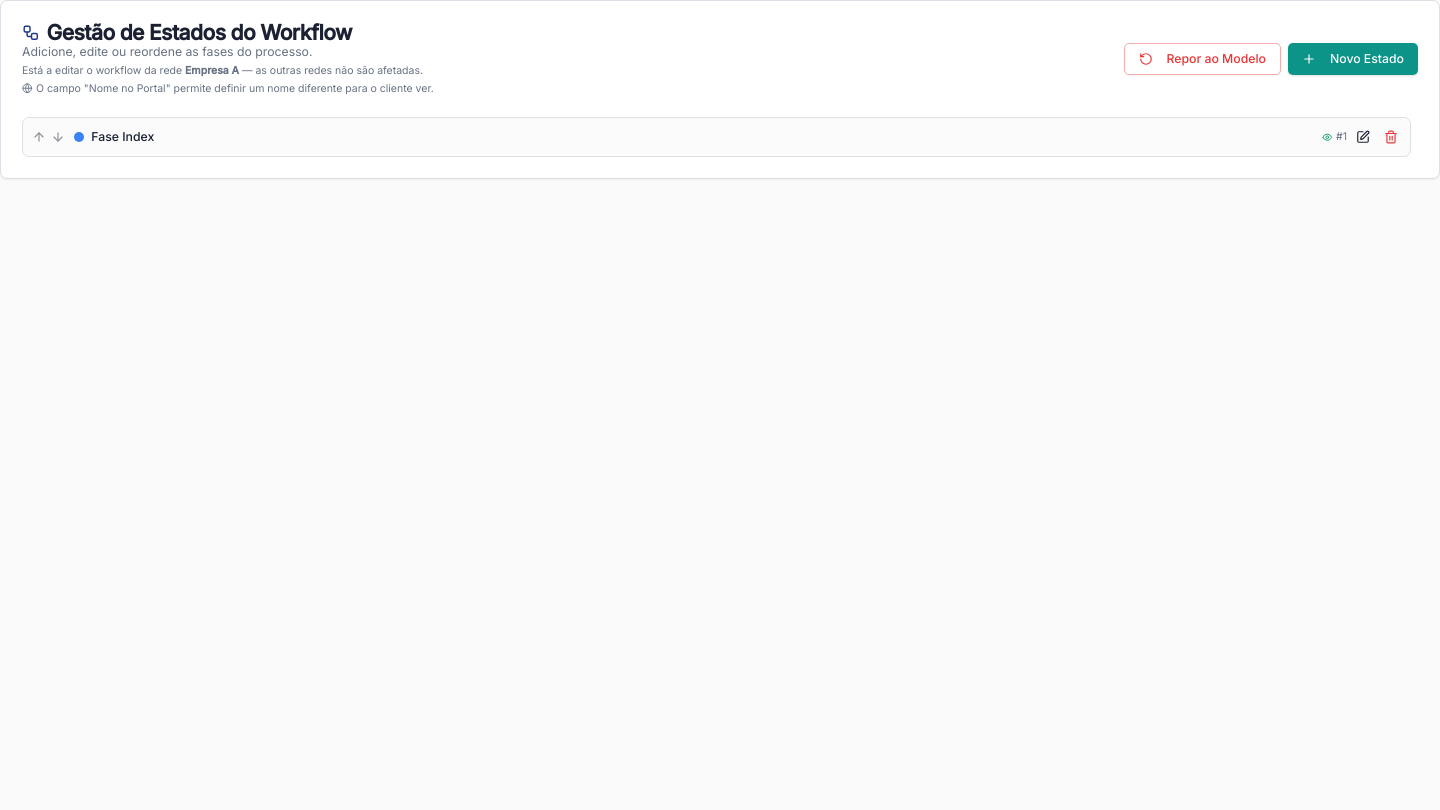
it: WorkflowEditor — Repor ao Modelo › confirma com a password, avisa e recarrega o editor
The image size is (1440, 810).
Click the button with test id "repor-workflow-modelo-btn". click: click(1202, 59)
box: [1124,43,1281,74]
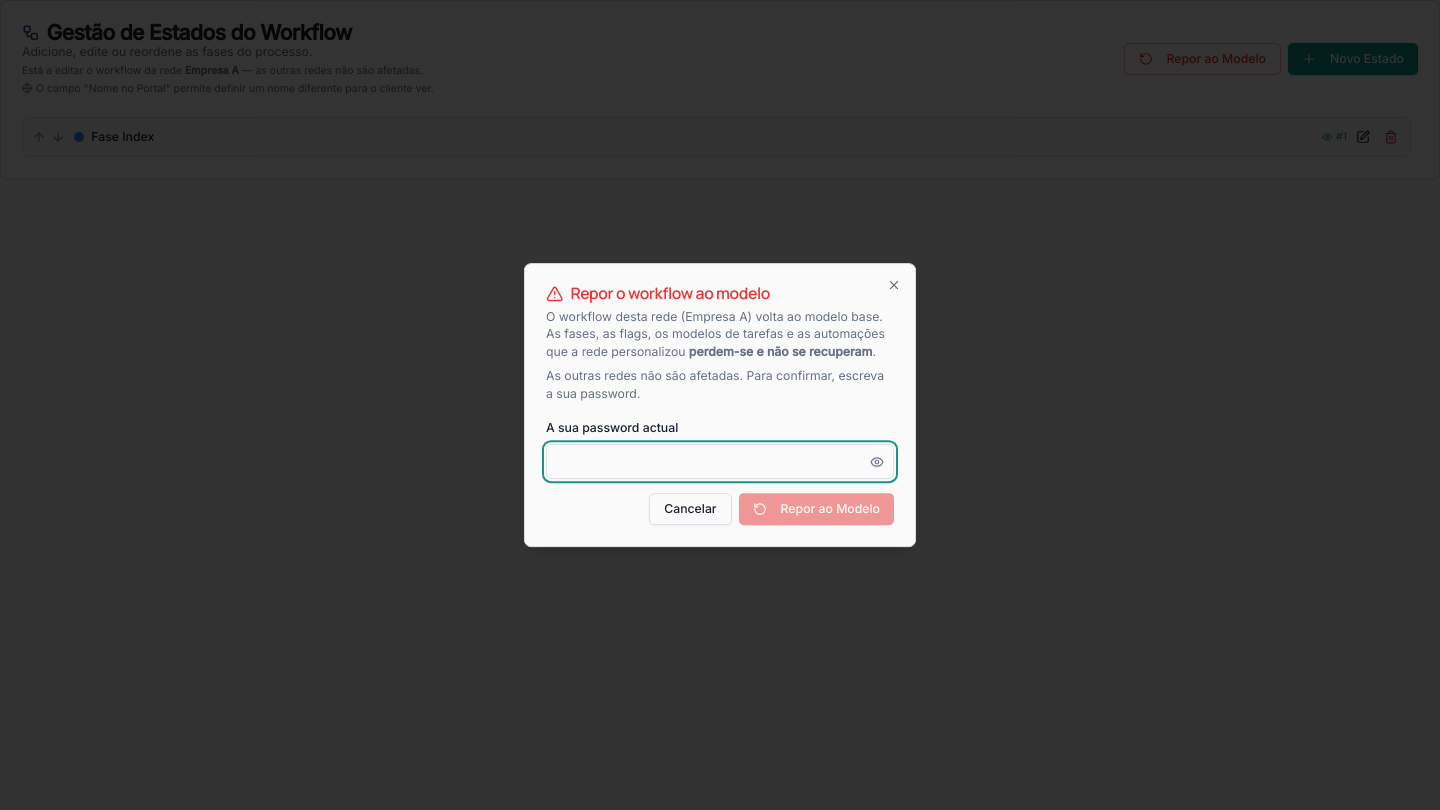
Type "Segredo-1!" into the password field labelled "A sua password actual". click: (720, 462)
box: [546,444,894,479]
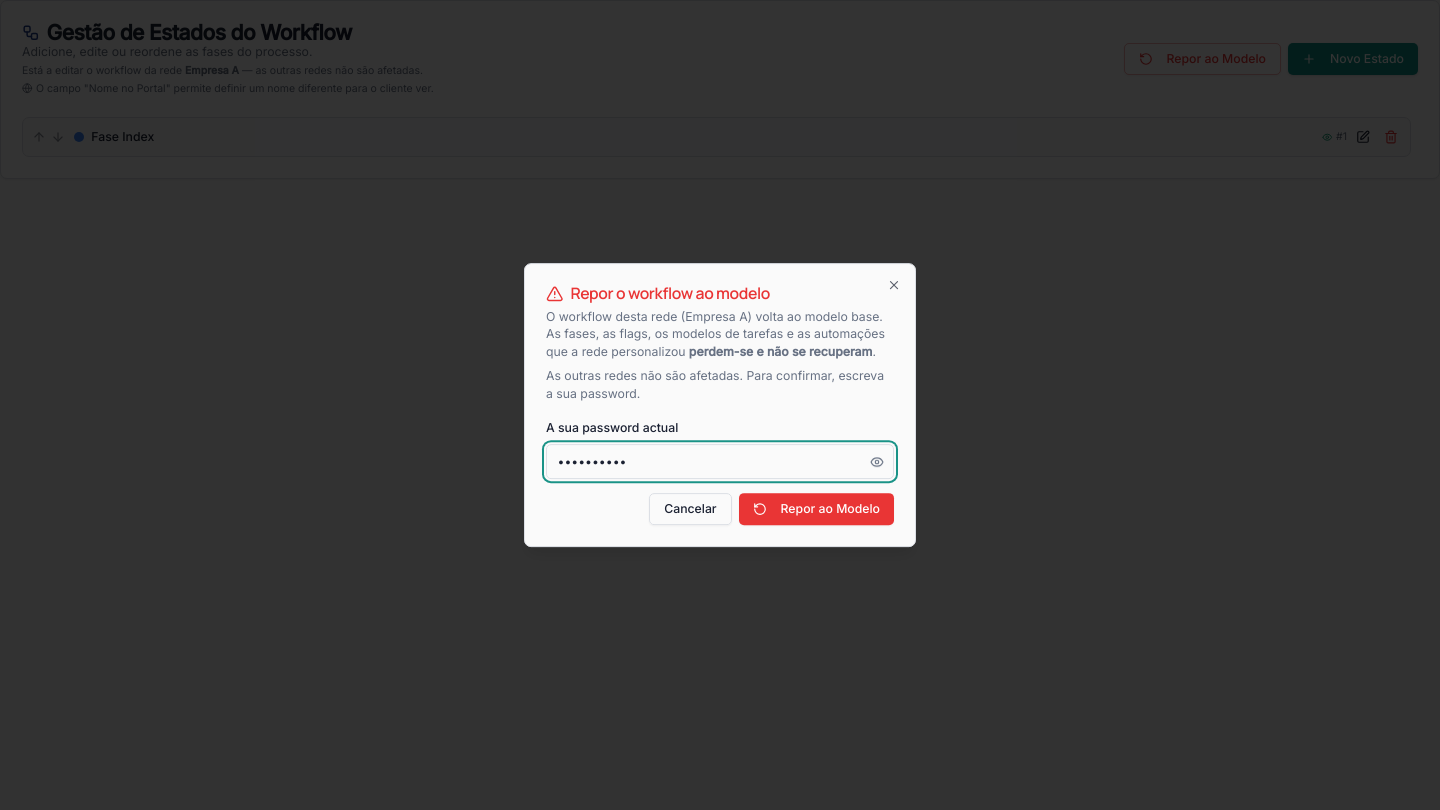
Click the button with test id "repor-modelo-confirmar". click: click(816, 509)
box: [739,493,894,525]
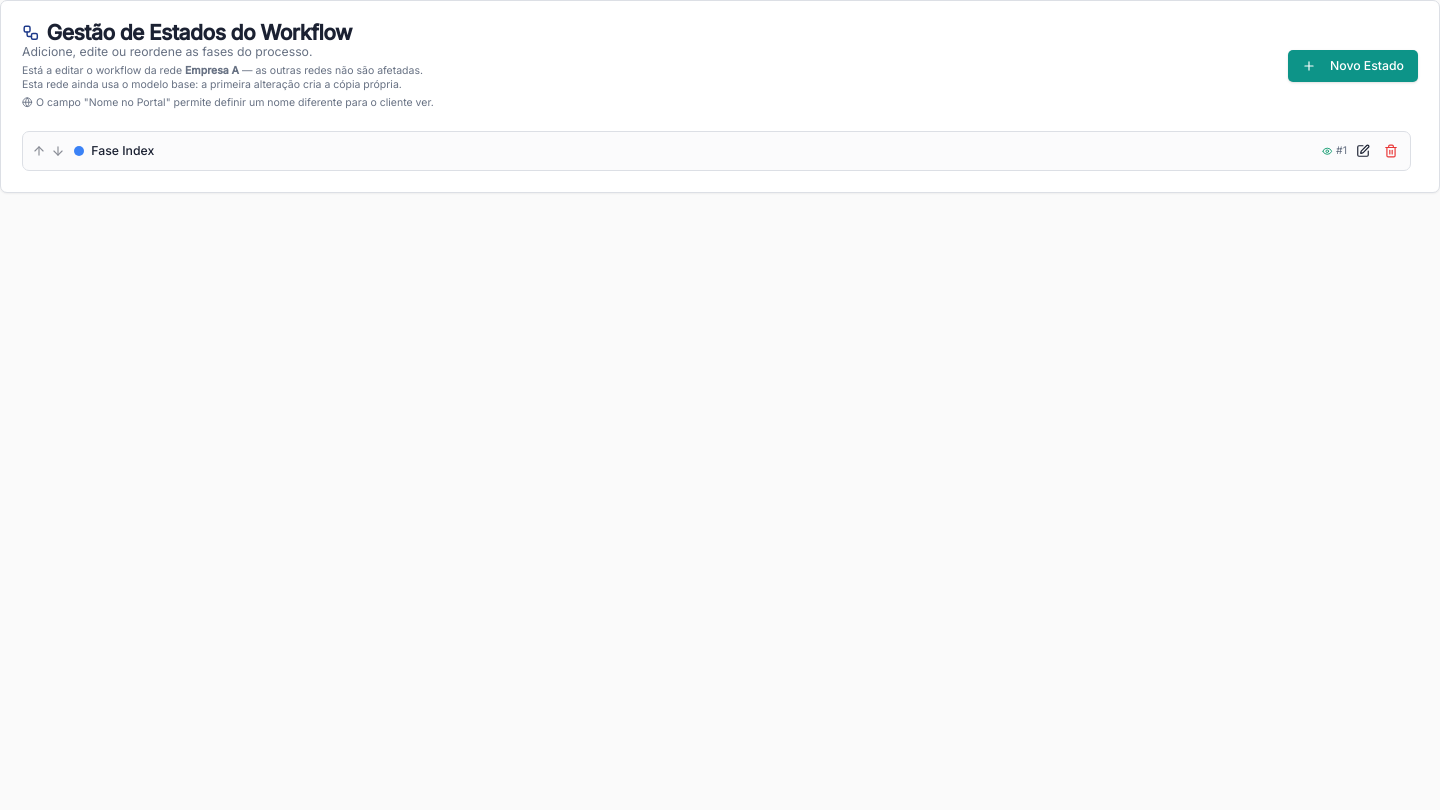
expect the button with test id "repor-workflow-modelo-btn" is gone: met
